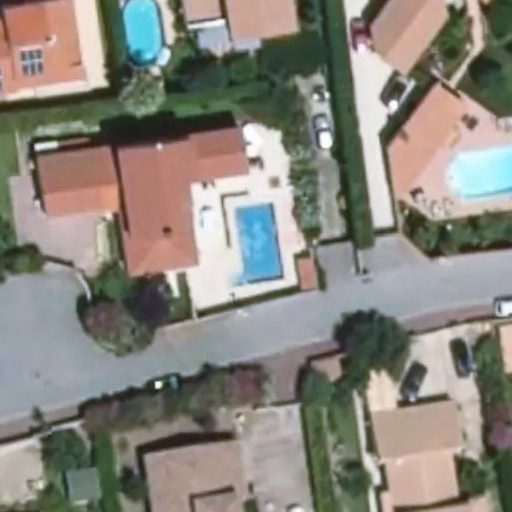pool: (217, 207, 285, 276)
